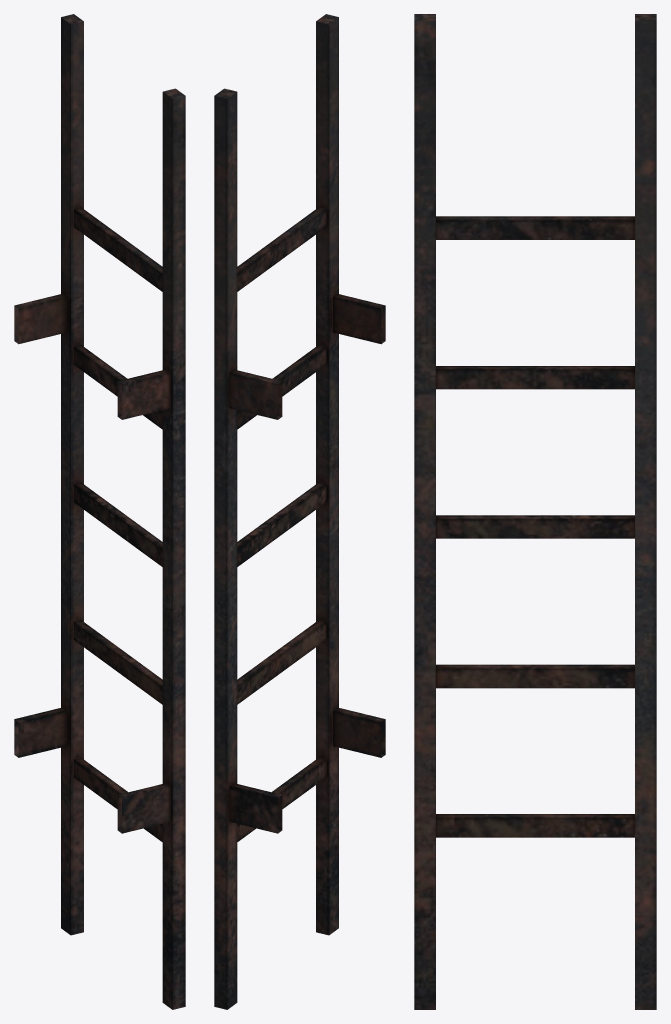
Rendered from Ladder_01.FBX.
The picture shows the model from 3 angles, left to right: view 1: azimuth 30°, elevation 25°; view 2: azimuth 150°, elevation 25°; view 3: azimuth 270°, elevation 25°; orthographic projection. The views are drawn at different scales.
Parts seen in each view (by area): view 1: Ladder_01; view 2: Ladder_01; view 3: Ladder_01.
Boxes of the visible parts, x1,y1,x2,y2 form: Ladder_01: (14, 14, 185, 1009); Ladder_01: (214, 14, 385, 1009); Ladder_01: (414, 14, 656, 1009).
Bounding box in the file's own units: 24.09 × 341 × 75.75.
